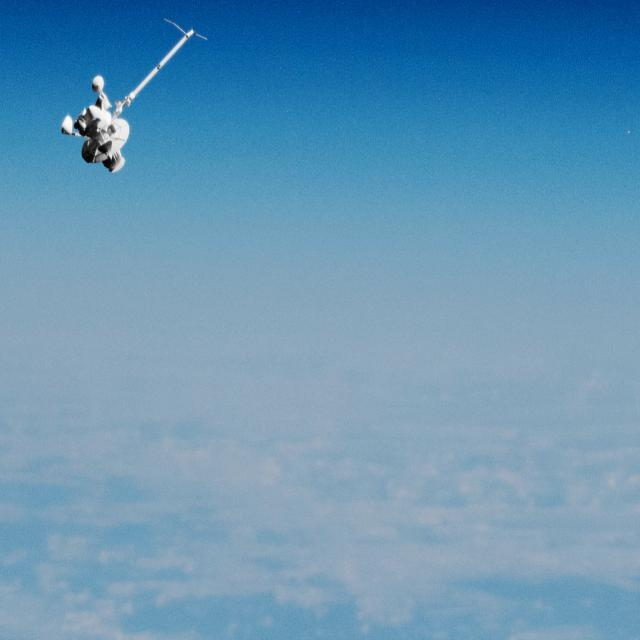satellite: (50, 16, 213, 185)
